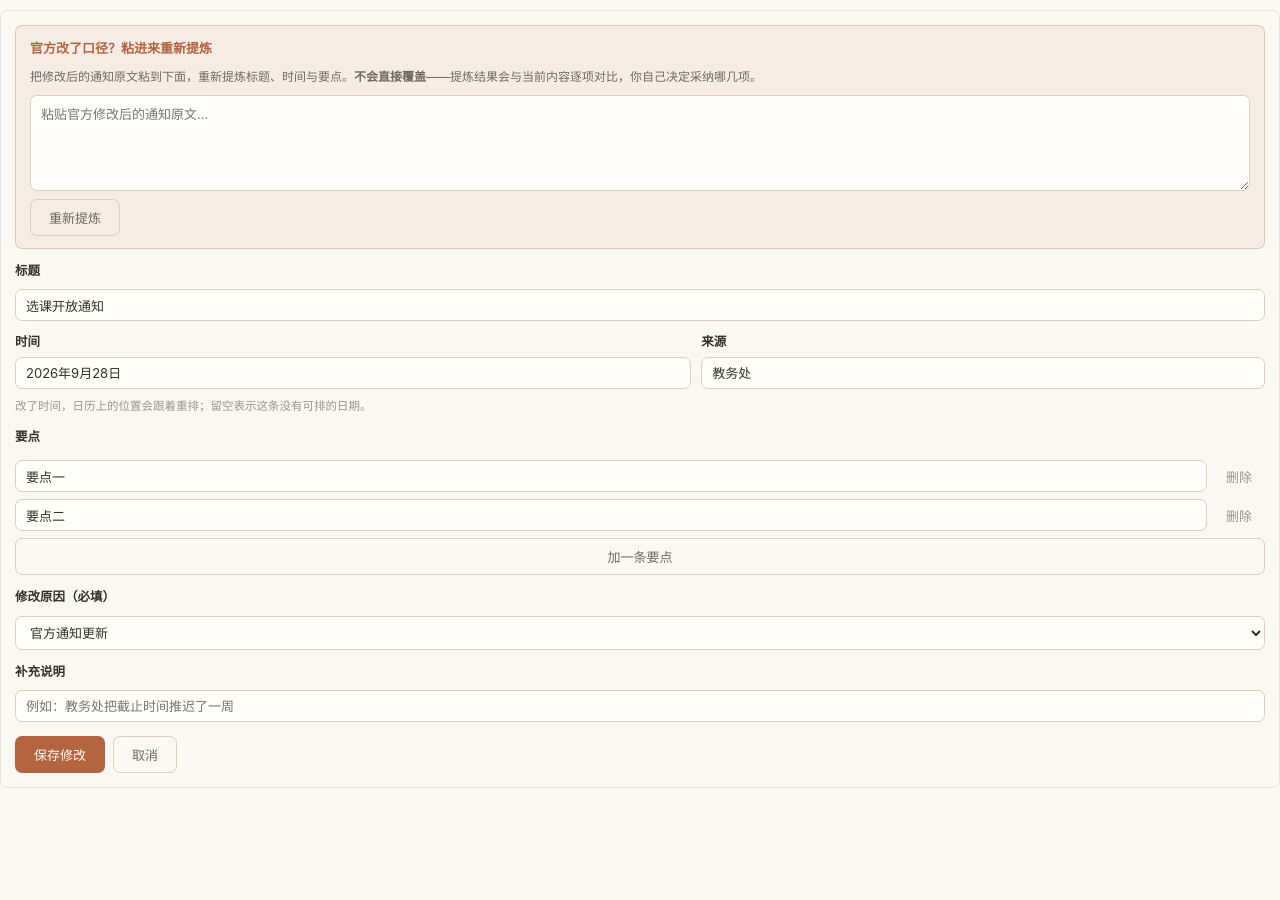
Test: CardEditForm 官方改口径：粘贴原文重新提炼 › 没有粘贴内容时按钮给出提示，不去调接口
This screenshot has width=1280, height=900.
Click the button "重新提炼" at (75,217), box [30,199,120,236]
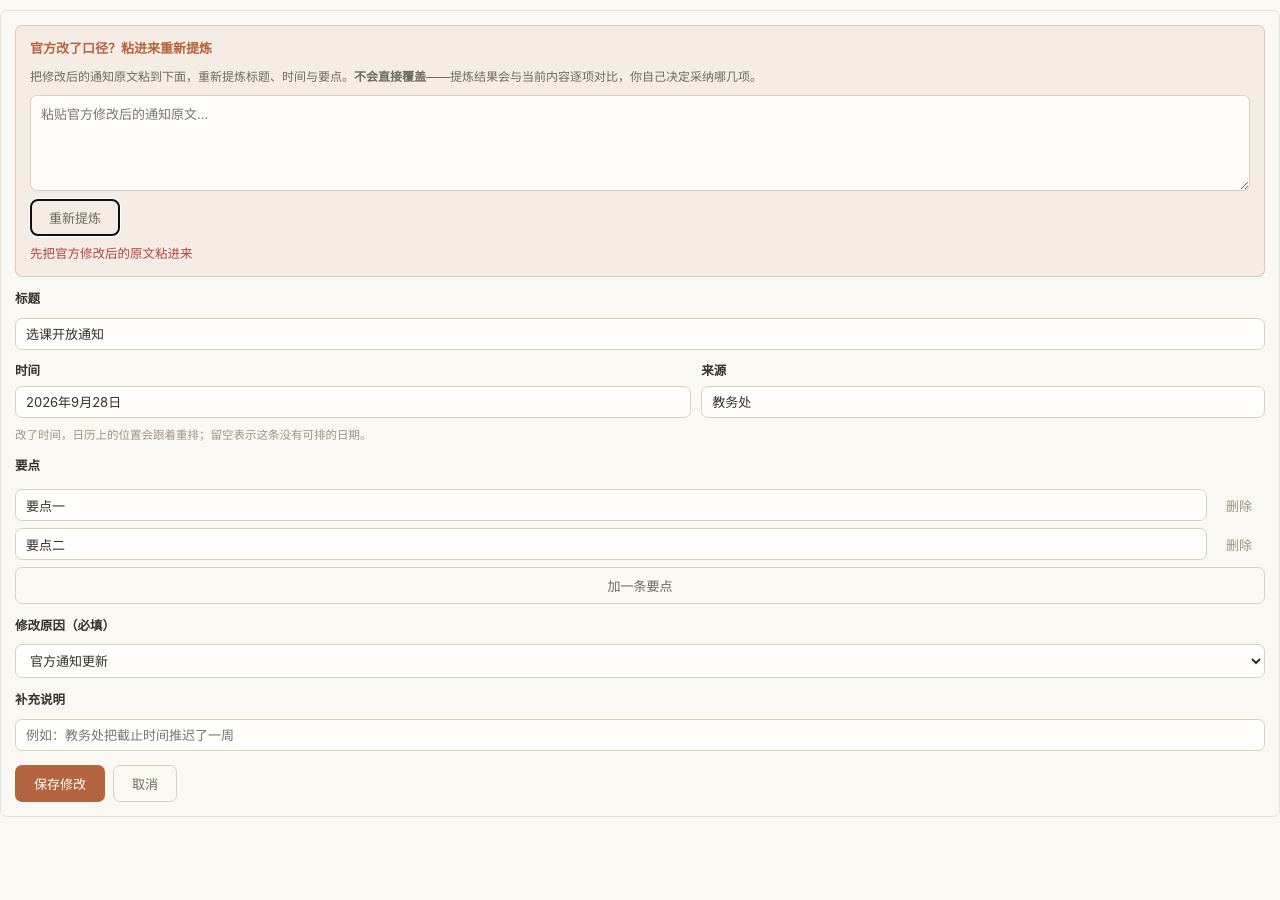
expect the text "先把官方修改后的原文粘进来" is shown: met, box [30,246,192,261]
